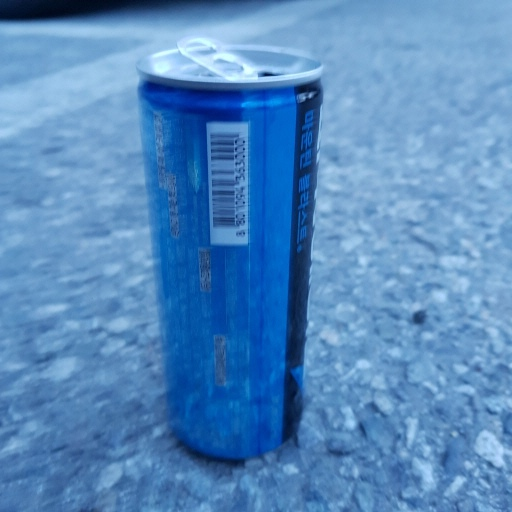Metal_0: (126, 35, 329, 461)
